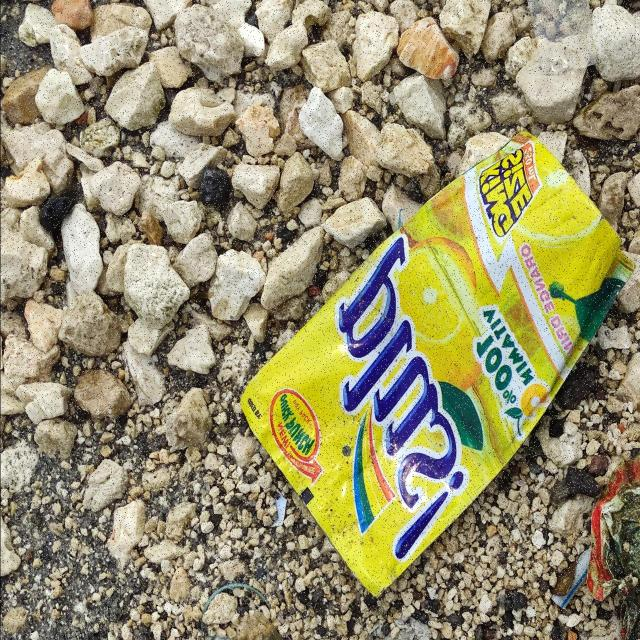plastic_waste: (238, 123, 636, 602)
